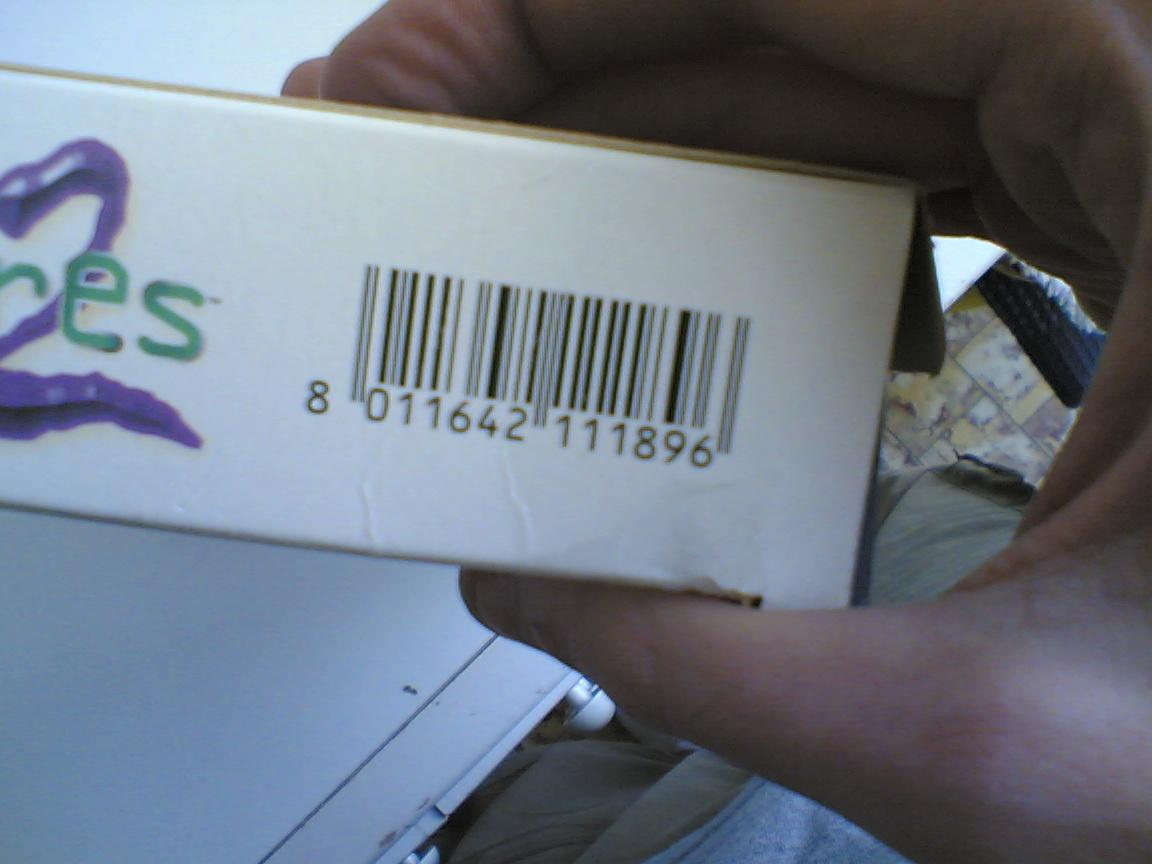Barcode: (274, 228, 805, 482)
